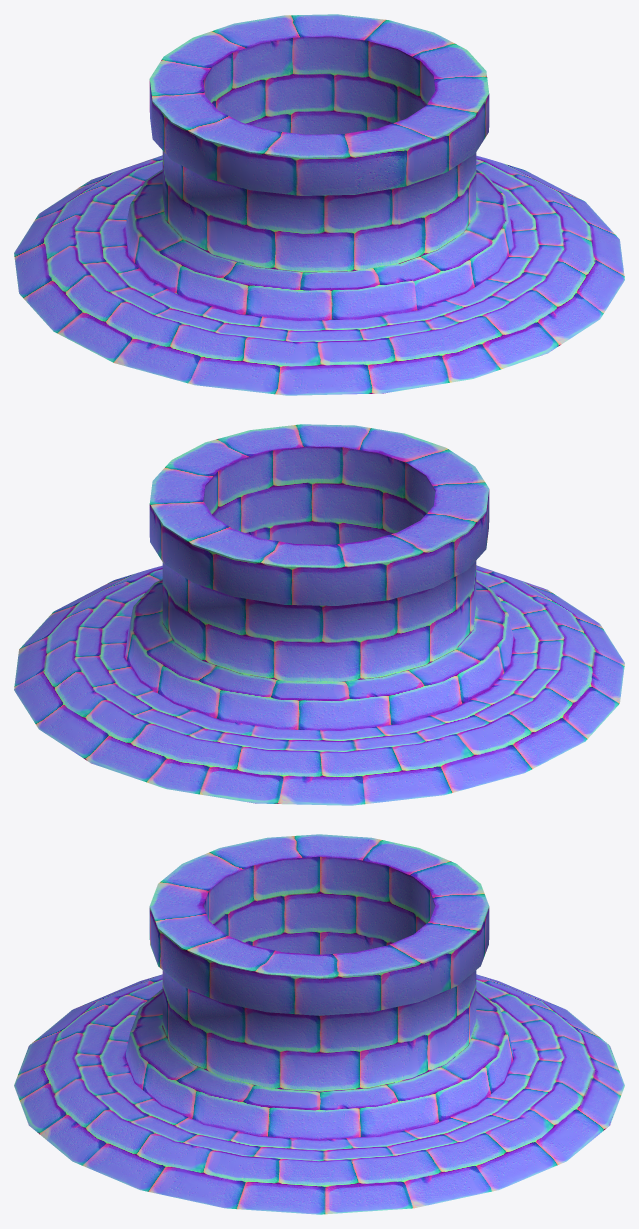
Rendered from Well_LP.fbx.
3 renders of one model, top to bottom at view 1: azimuth 30°, elevation 25°; view 2: azimuth 150°, elevation 25°; view 3: azimuth 270°, elevation 25°, orthographic.
Parts seen in each view (by area): view 1: Well; view 2: Well; view 3: Well.
Boxes of the visible parts, left/top/right/bottom form: Well: left=14, top=14, right=624, bottom=395; Well: left=14, top=424, right=624, bottom=805; Well: left=14, top=834, right=624, bottom=1214.
Size of the model in its own units: 5.37 by 1.74 by 5.37.
